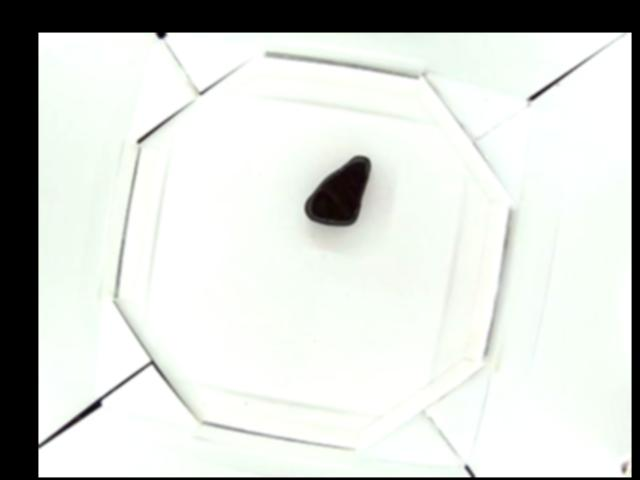Pebble: (302, 156, 371, 227)
